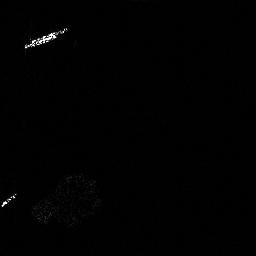ship: (24, 27, 69, 48), (1, 193, 19, 208)
